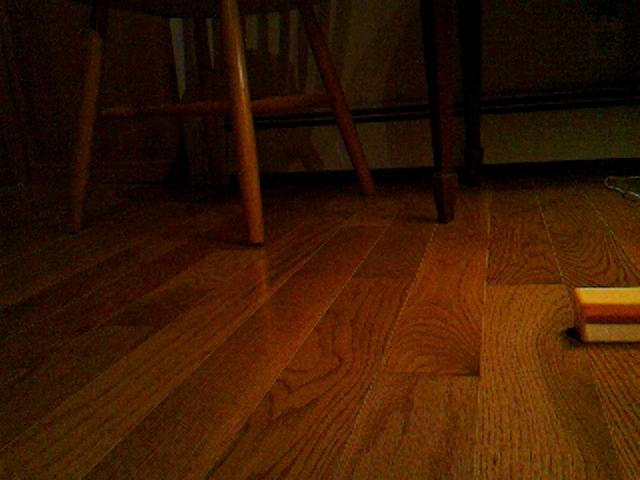yellow: (572, 284, 640, 345)
